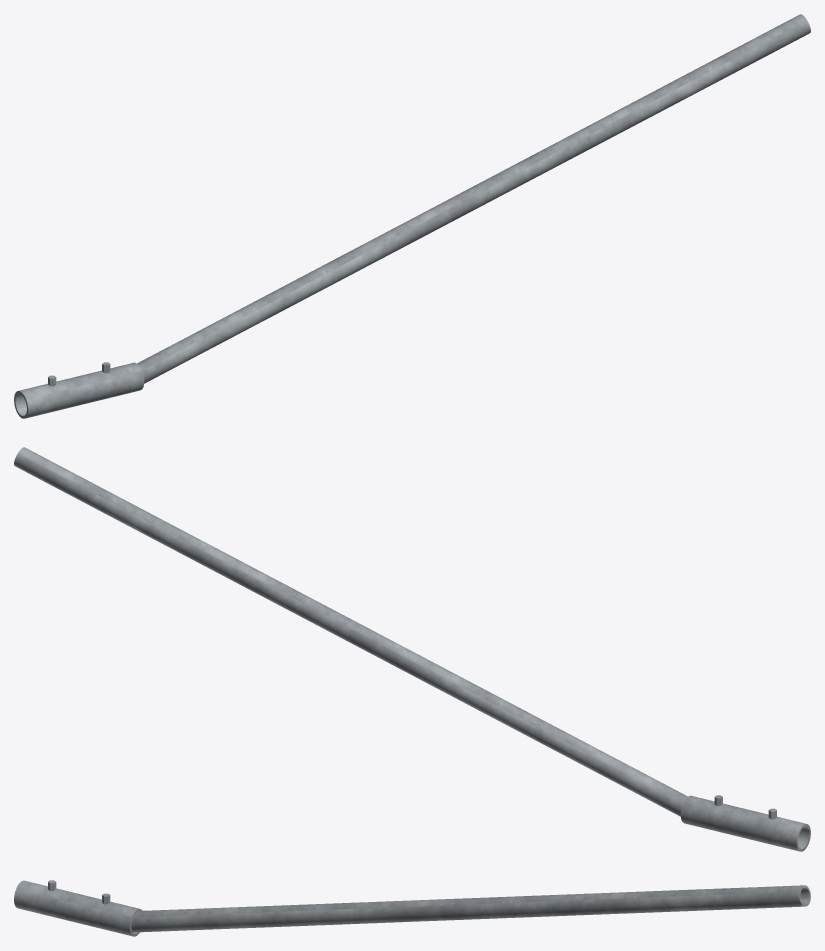
The model's file is ELE-IPU-003.glb.
3 views of the same model, one above another, from view 1: azimuth 30°, elevation 25°; view 2: azimuth 150°, elevation 25°; view 3: azimuth 330°, elevation 25° (orthographic).
Visible parts, largest first — view 1: ELE-IPU-003_braco, ELE-IPU-003_luva; view 2: ELE-IPU-003_braco, ELE-IPU-003_luva; view 3: ELE-IPU-003_braco, ELE-IPU-003_luva.
Boxes of the visible parts, x1=… form: ELE-IPU-003_braco: x1=137, y1=14, x2=810, y2=383; ELE-IPU-003_luva: x1=14, y1=362, x2=144, y2=418; ELE-IPU-003_braco: x1=14, y1=447, x2=687, y2=816; ELE-IPU-003_luva: x1=680, y1=795, x2=810, y2=851; ELE-IPU-003_braco: x1=131, y1=885, x2=810, y2=932; ELE-IPU-003_luva: x1=14, y1=880, x2=142, y2=936.
Size of the model in its own units: 2.03 by 0.5244 by 0.064.
Materials: 1 (1 with a texture image).
